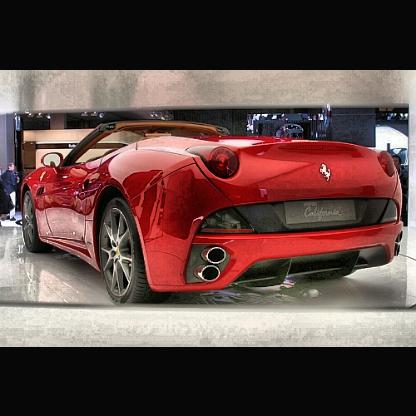Ferrari California Convertible 2012: (21, 119, 405, 307)
